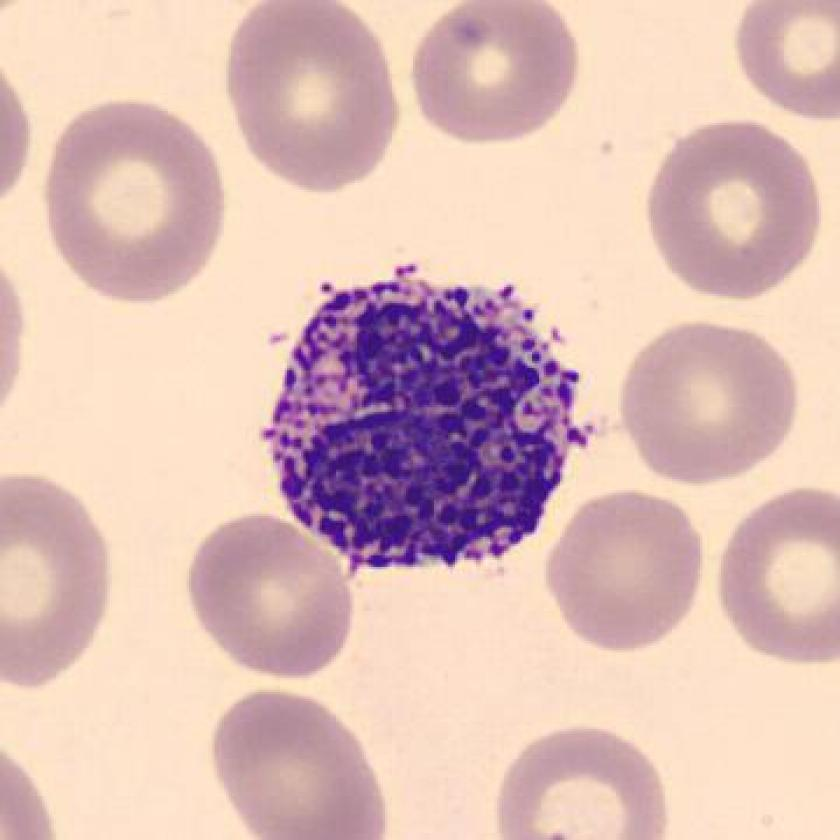basophil: (260, 258, 603, 579)
